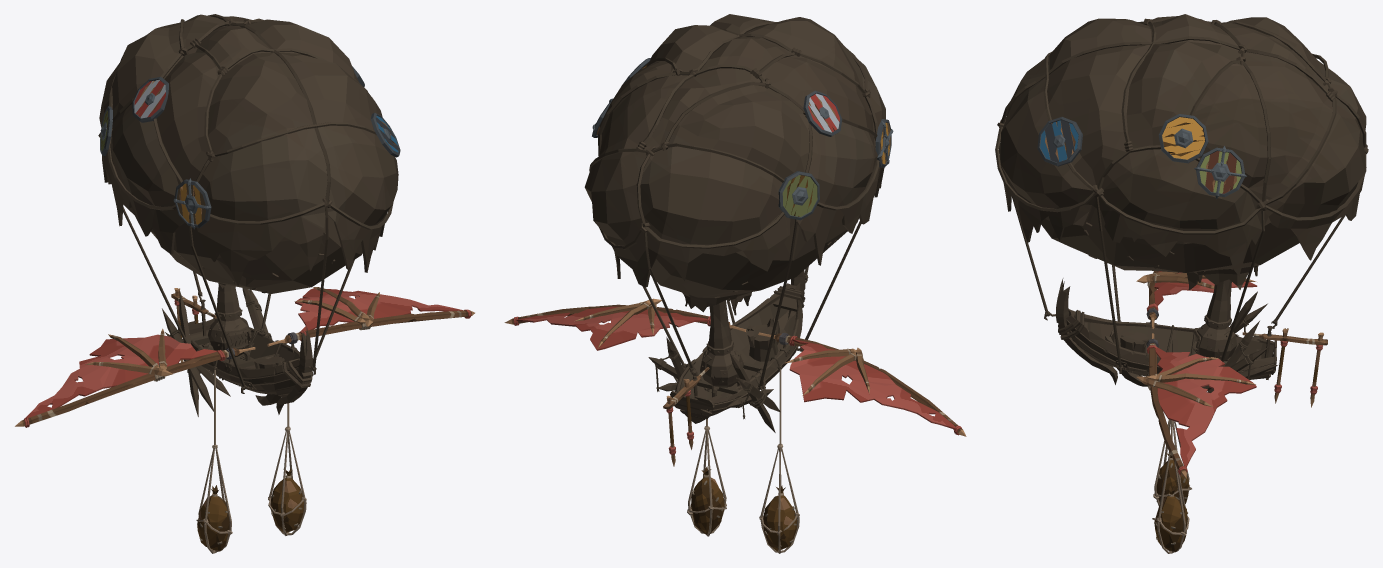
File: bog_balloon.gltf
3 views of the same model, side by side, from view 1: azimuth 30°, elevation 25°; view 2: azimuth 150°, elevation 25°; view 3: azimuth 270°, elevation 25° (orthographic).
Parts seen in each view (by area): view 1: bog_balloon; view 2: bog_balloon; view 3: bog_balloon.
Boxes of the visible parts, x1,y1,x2,y2 form: bog_balloon: (15,14,474,553); bog_balloon: (504,14,966,553); bog_balloon: (995,14,1368,553).
Size of the model in its own units: 9.76 by 10.37 by 6.82.
2 materials, 2 textured.
